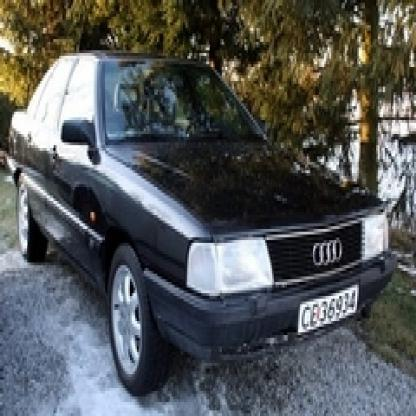Vehicle: (11, 53, 400, 402)
